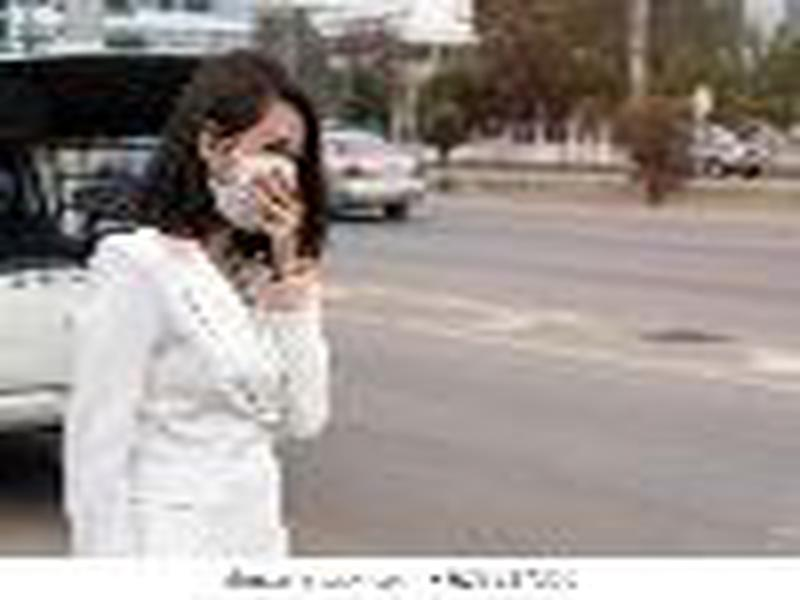with_mask: (167, 48, 308, 239)
